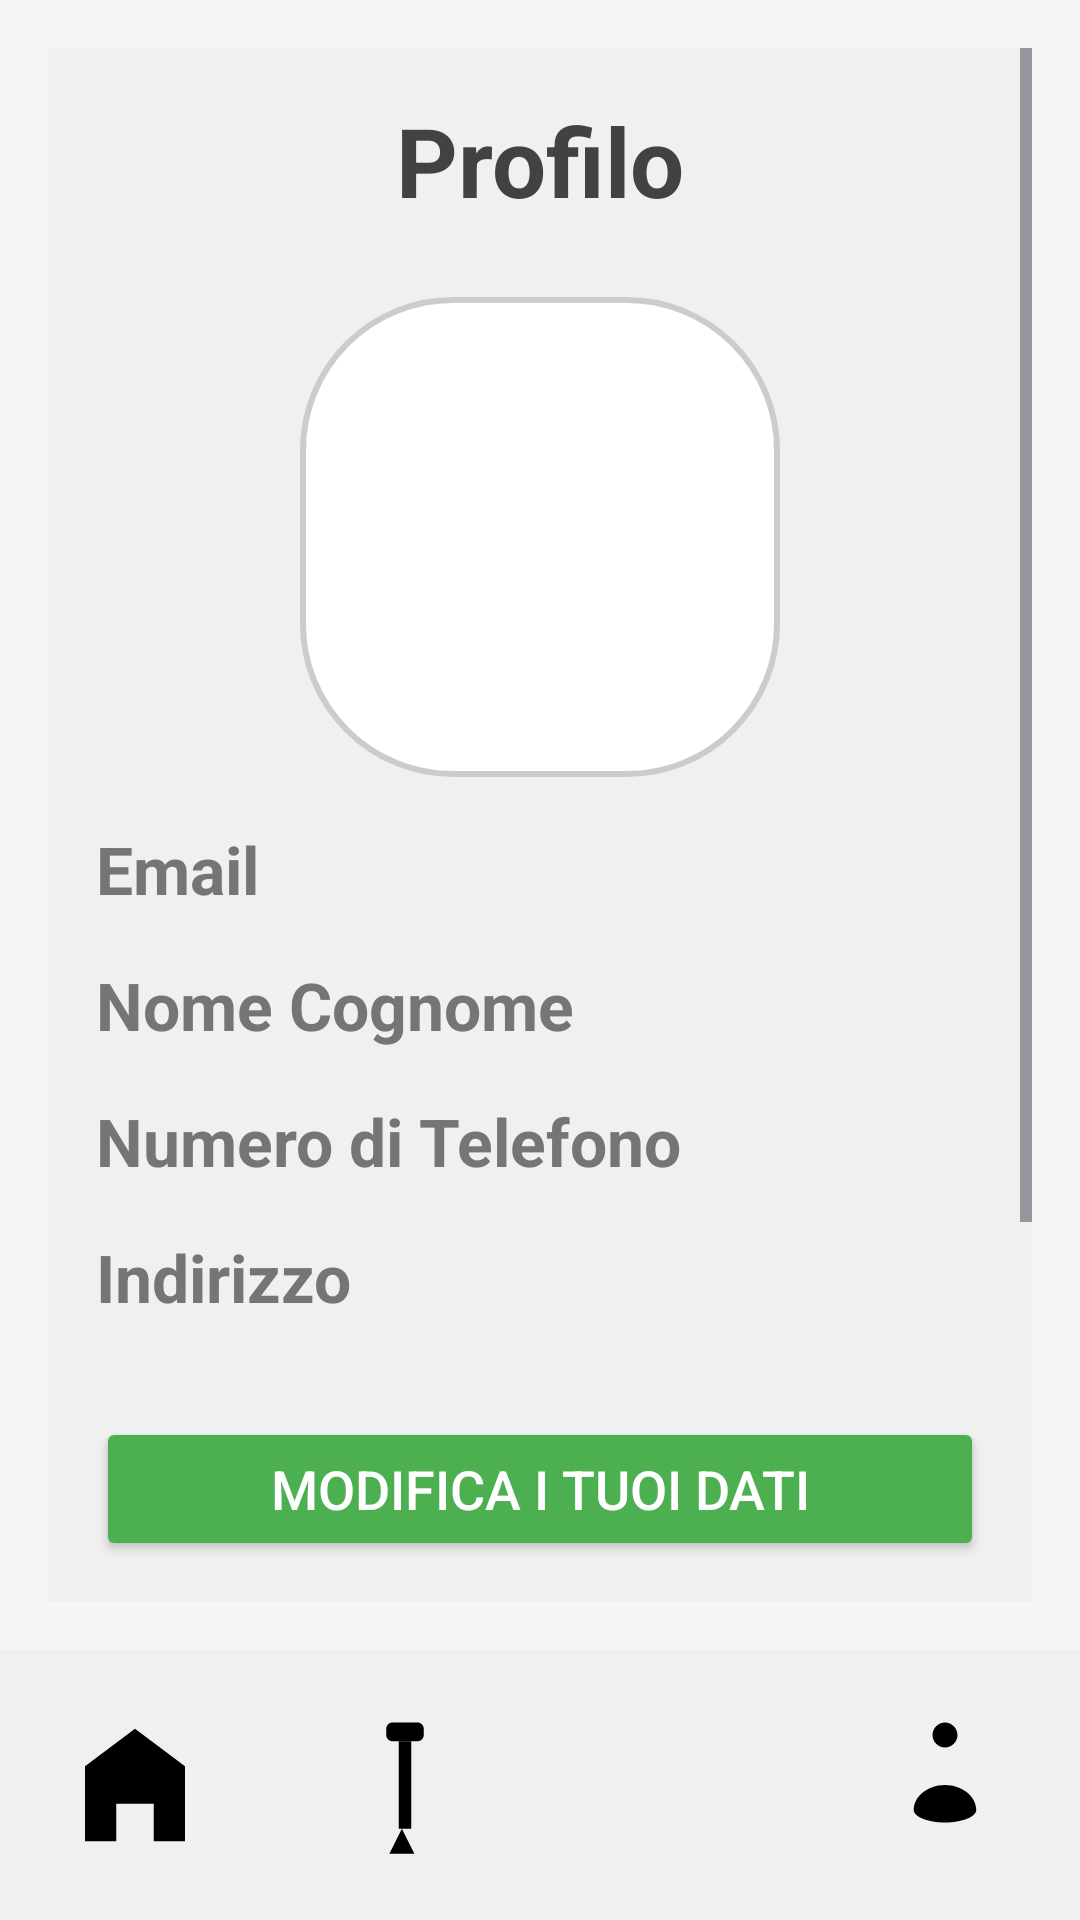

Where to tap for icons on this 1080px x 1920px app screen, as [x,y]:
Home: [135,1785]
tool: [405,1788]
